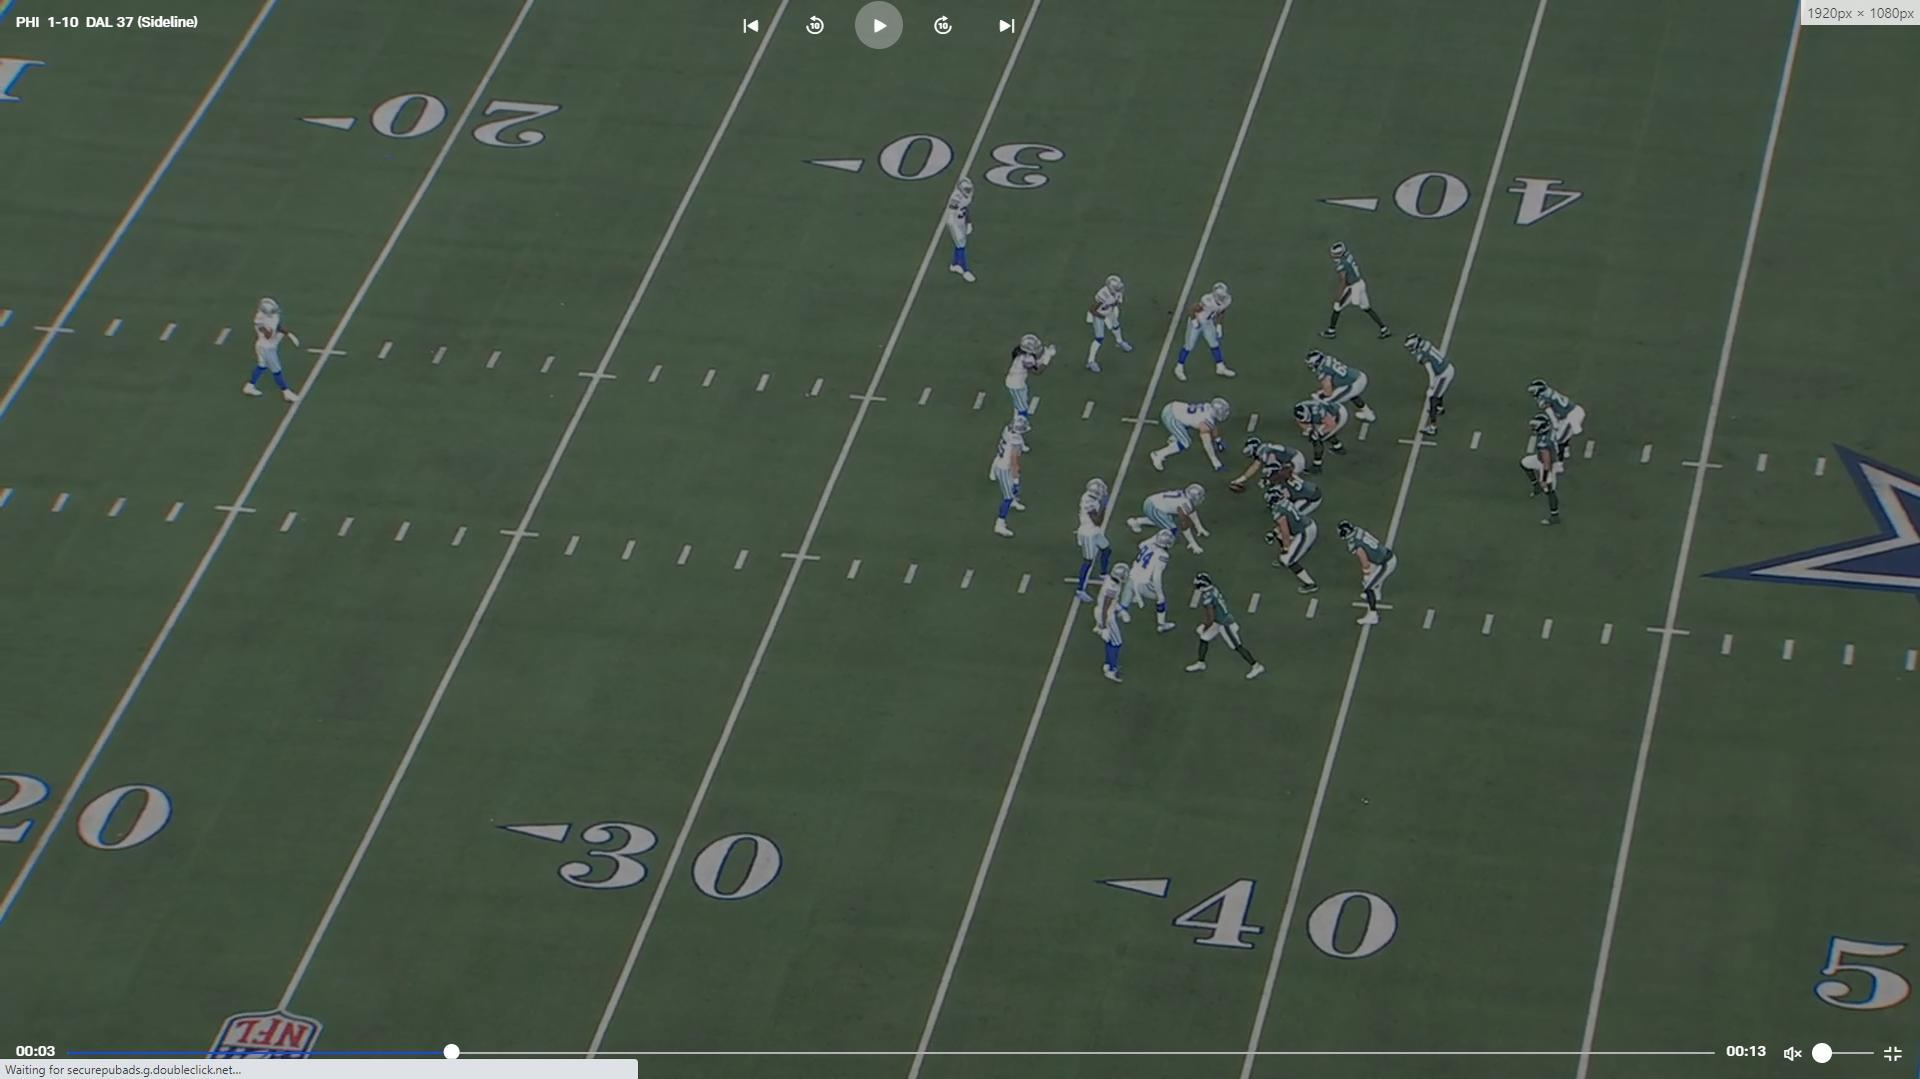player: (1188, 567, 1272, 683), (1324, 239, 1398, 346), (1168, 277, 1240, 385), (1116, 523, 1181, 636), (239, 297, 303, 410), (1143, 397, 1234, 474), (1337, 516, 1400, 624), (1124, 480, 1211, 556), (1531, 377, 1593, 483), (985, 414, 1037, 540), (1308, 347, 1383, 433), (1523, 407, 1572, 532), (1264, 491, 1323, 594), (1070, 476, 1120, 596), (1409, 334, 1464, 443), (1082, 270, 1138, 377), (1005, 330, 1059, 435), (1091, 564, 1135, 687), (1287, 394, 1352, 473), (1235, 437, 1308, 502), (1264, 470, 1323, 546), (945, 179, 983, 290)
